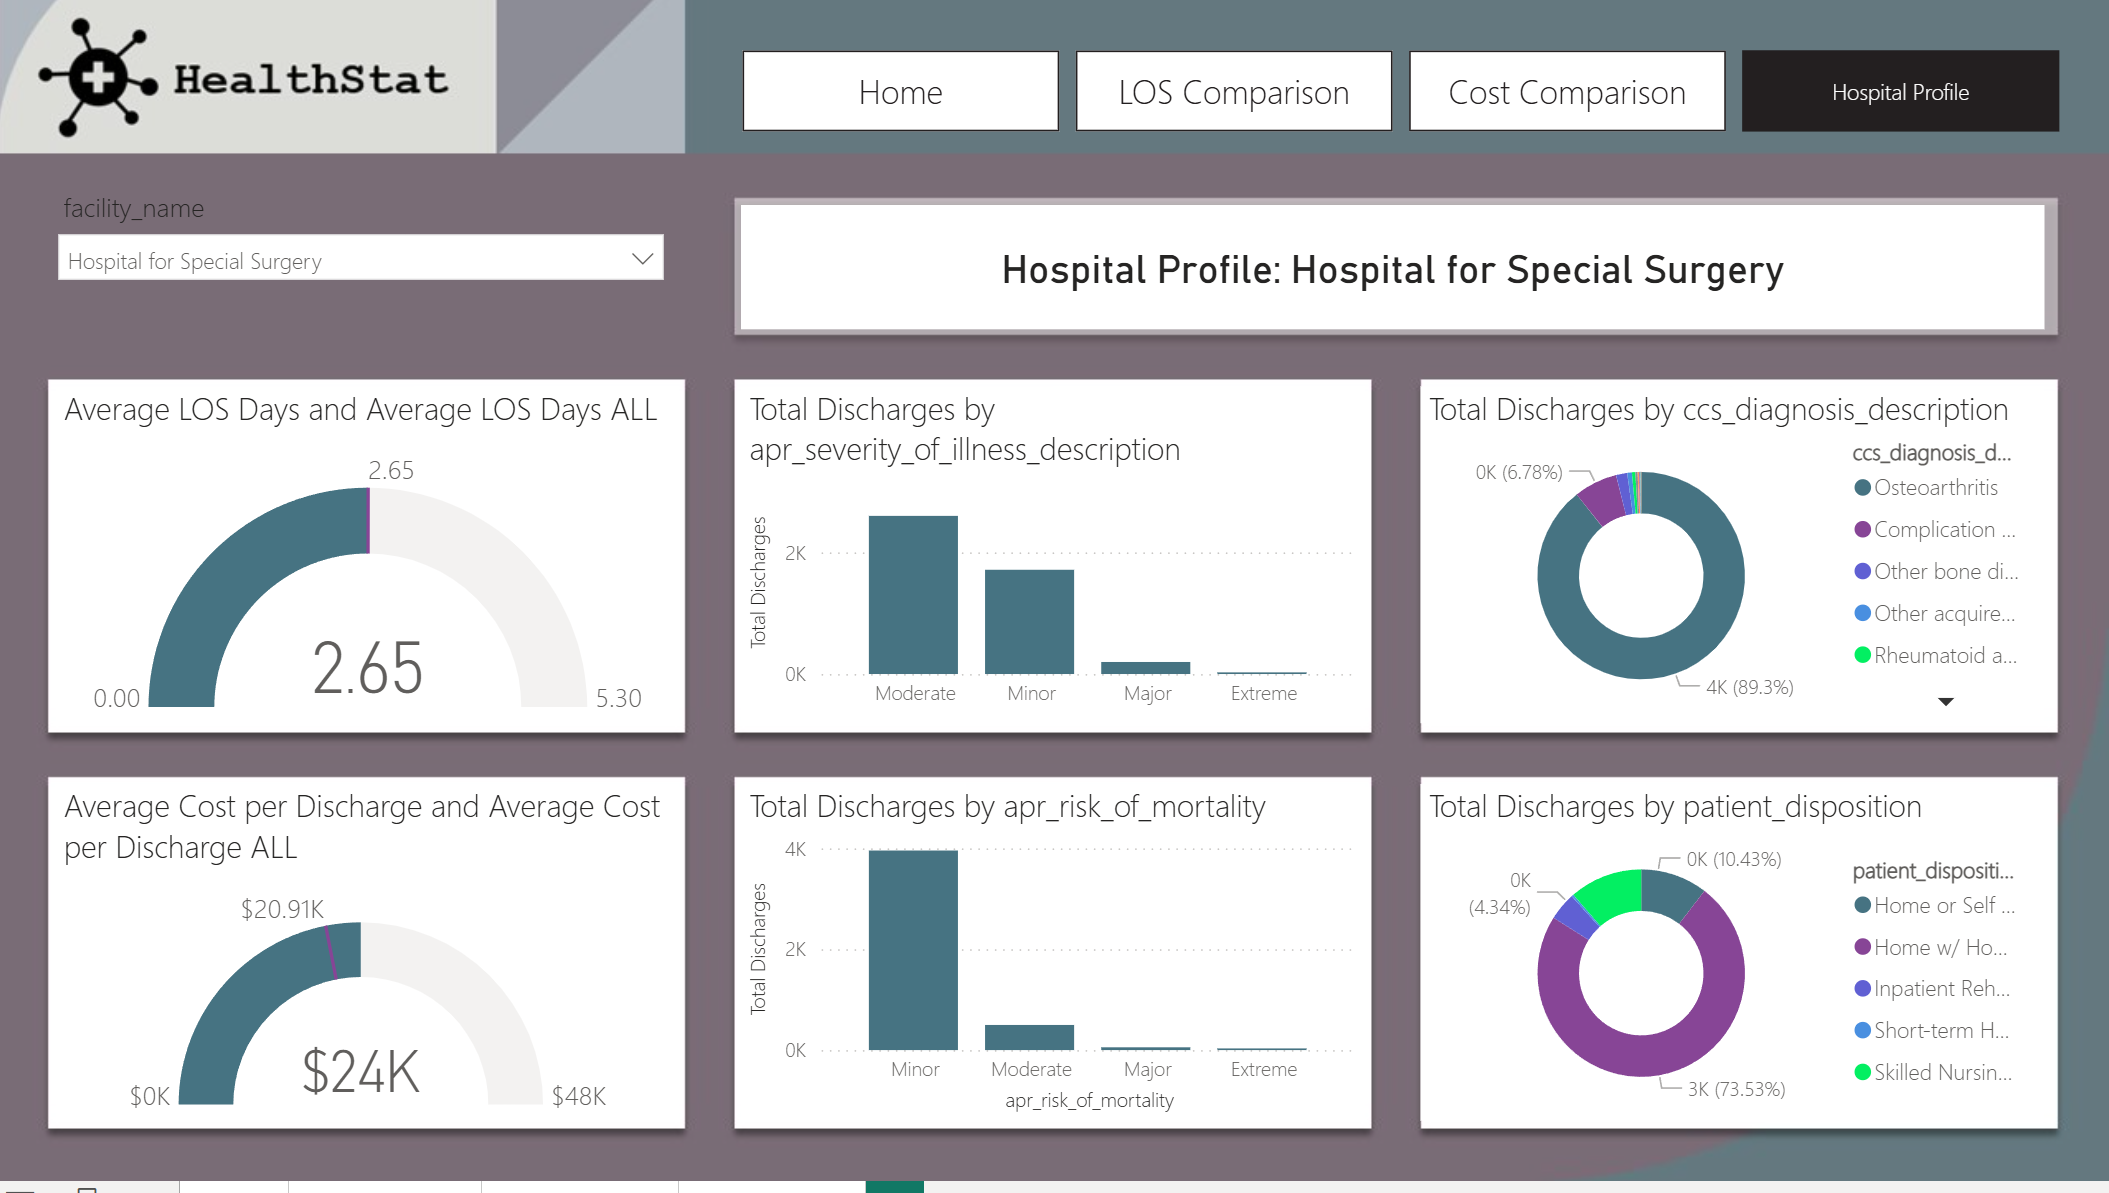

The page's visual inventory and layout, read from the dashboard file:
{"tool":"powerbi","page":{"name":"Hospital Profile","canvas":[1280,720],"ordinal":3},"visuals":[{"type":"gauge","fields":{"TargetValue":["_Measures.Average LOS Days ALL"],"Y":["_Measures.Average LOS Days"]},"box":[37.1,237.1,377.1,202.9],"z":0},{"type":"gauge","fields":{"TargetValue":["_Measures.Average Cost per Discharge ALL"],"Y":["_Measures.Average Cost per Discharge"]},"box":[35.7,476.3,377.9,203.9],"z":1000},{"type":"clusteredColumnChart","fields":{"Category":["hospital_discharges.apr_severity_of_illness_description"],"Y":["_Measures.Total Discharges"]},"box":[450.6,235.3,377.9,203.9],"z":2000},{"type":"clusteredColumnChart","fields":{"Category":["hospital_discharges.apr_risk_of_mortality"],"Y":["_Measures.Total Discharges"]},"box":[450.6,476.3,377.9,203.9],"z":3000},{"type":"donutChart","fields":{"Category":["hospital_discharges.ccs_diagnosis_description"],"Y":["_Measures.Total Discharges"]},"box":[862.8,235.3,377.9,203.9],"z":4000},{"type":"donutChart","fields":{"Series":["hospital_discharges.patient_disposition"],"Y":["_Measures.Total Discharges"]},"box":[862.8,476.3,377.9,203.9],"z":5000},{"type":"slicer","fields":{"Values":["hospital_discharges.facility_name"]},"box":[27.1,109.8,386.5,107],"z":6000},{"type":"card","fields":{"Values":["_Measures.Title Selected Facility"]},"box":[450.6,125.5,790,75.6],"z":7000},{"type":"pageNavigator","box":[450,34.3,800,48.6],"z":8001}]}

Visuals, with their boxes in screenshot pixels (x1, y1, x2, y2), scaled from the page's 1280x720 canvas onto the 2109x1193 screenshot:
gauge - _Measures.Average LOS Days ALL x _Measures.Average LOS Days: 61:393:682:729
gauge - _Measures.Average Cost per Discharge ALL x _Measures.Average Cost per Discharge: 59:789:681:1127
clusteredColumnChart - hospital_discharges.apr_severity_of_illness_description x _Measures.Total Discharges: 742:390:1365:728
clusteredColumnChart - hospital_discharges.apr_risk_of_mortality x _Measures.Total Discharges: 742:789:1365:1127
donutChart - hospital_discharges.ccs_diagnosis_description x _Measures.Total Discharges: 1422:390:2044:728
donutChart - hospital_discharges.patient_disposition x _Measures.Total Discharges: 1422:789:2044:1127
slicer - hospital_discharges.facility_name: 45:182:681:359
card - _Measures.Title Selected Facility: 742:208:2044:333
pageNavigator: 741:57:2060:137
